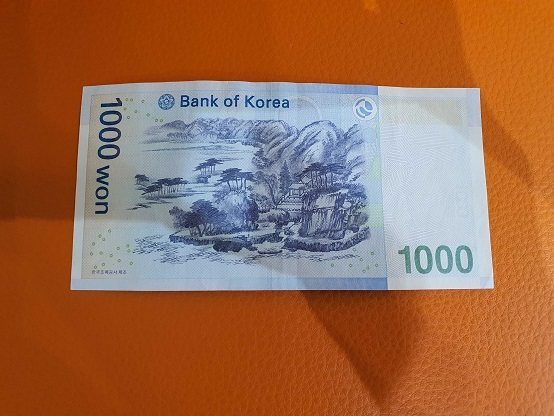1000won: (69, 81, 496, 290)
